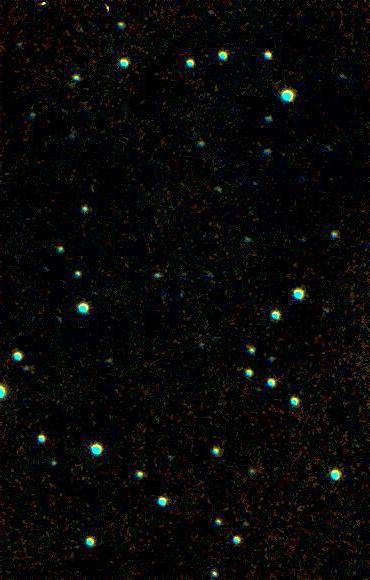star: (27, 0, 57, 21)
